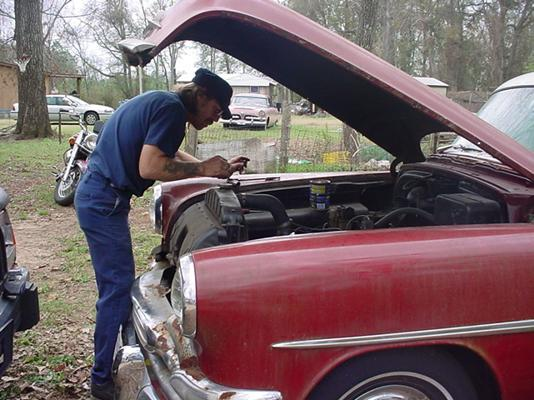person: (71, 67, 254, 400)
